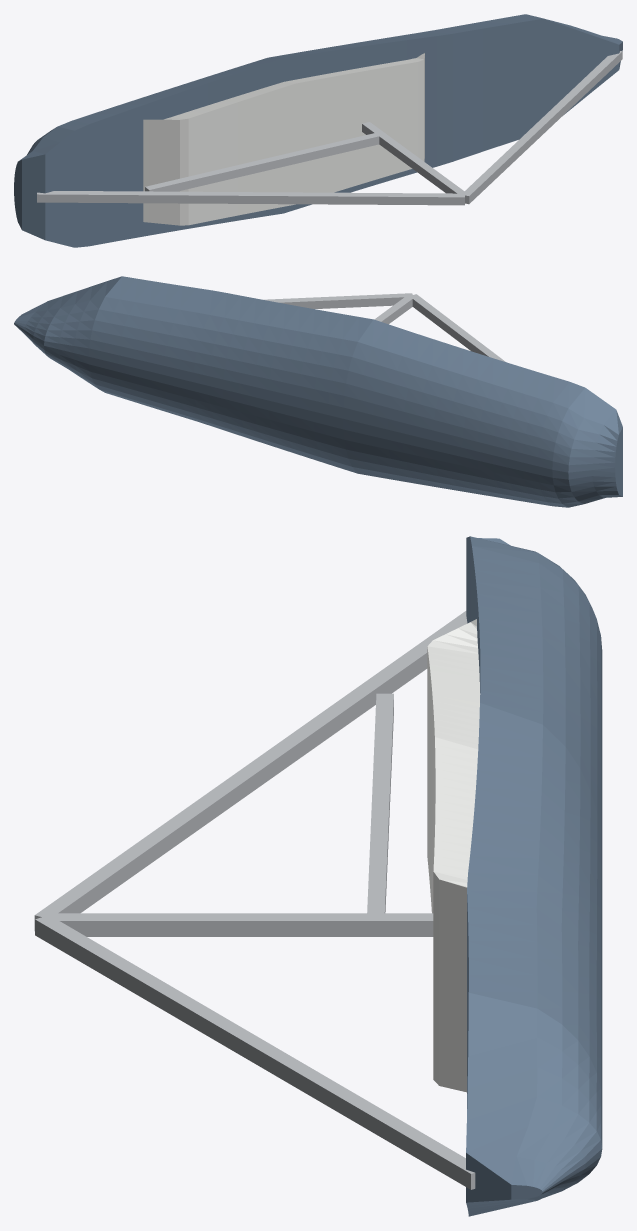
File: loft-sail-small-sheered.glb
3 renders of one model, top to bottom at view 1: azimuth 30°, elevation 25°; view 2: azimuth 150°, elevation 25°; view 3: azimuth 270°, elevation 25°, orthographic. The views are drawn at different scales.
Parts seen in each view (by area): view 1: loft-sail-small-sheered; view 2: loft-sail-small-sheered; view 3: loft-sail-small-sheered.
Part boxes in pixels (box(x1,y1,x2,y2)): loft-sail-small-sheered: box(14, 14, 622, 247); loft-sail-small-sheered: box(14, 276, 622, 507); loft-sail-small-sheered: box(34, 536, 602, 1216).
Size of the model in its own units: 1.88 by 0.4618 by 0.7728.
